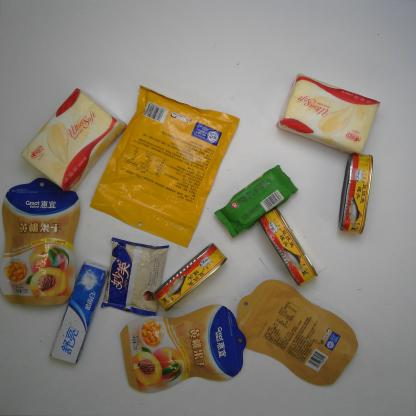Canned Food: (151, 242, 229, 312), (260, 208, 318, 287), (337, 151, 374, 236)
Dessert: (213, 164, 299, 238), (100, 237, 170, 316)
Dried Fruit: (87, 85, 242, 250), (236, 276, 359, 386), (119, 303, 248, 395), (0, 177, 82, 306)
Personal Hygiene: (49, 261, 110, 365)
Tissue: (19, 87, 127, 192), (276, 72, 381, 154)
